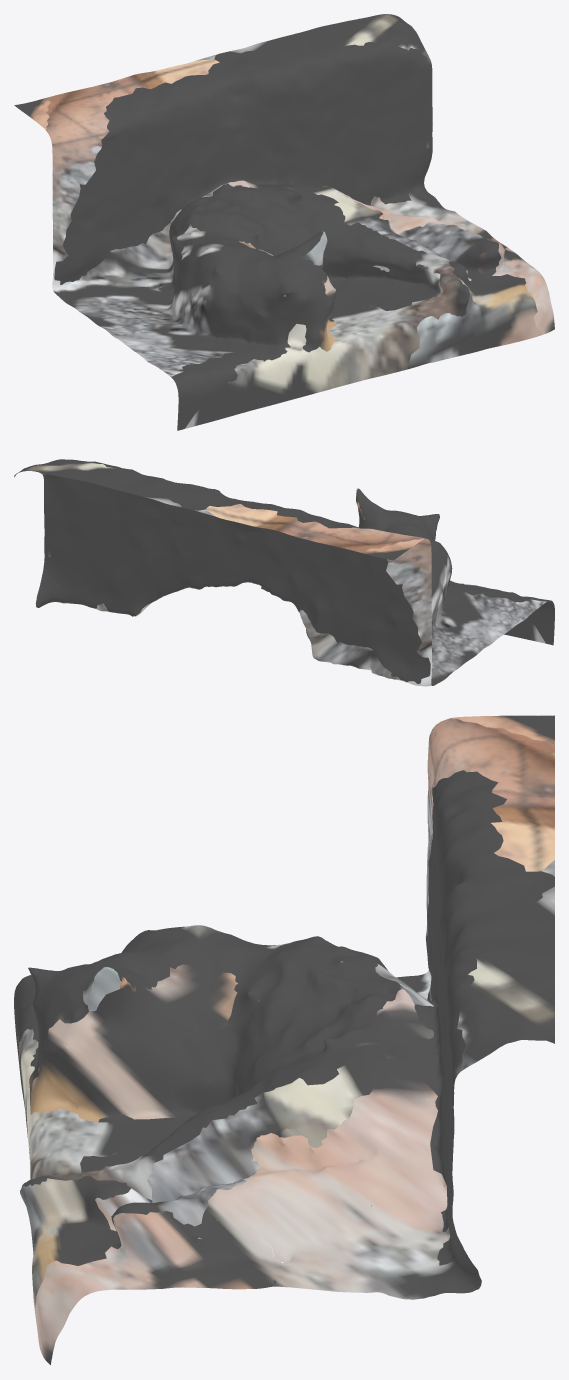
3 views of the same model, one above another, from view 1: azimuth 30°, elevation 25°; view 2: azimuth 150°, elevation 25°; view 3: azimuth 270°, elevation 25° (orthographic). The views are drawn at different scales.
Visible parts, largest first — view 1: mesh_main_0; view 2: mesh_main_0; view 3: mesh_main_0.
Part boxes in pixels (bbox=[...]): mesh_main_0: bbox=[14, 14, 554, 430]; mesh_main_0: bbox=[14, 459, 554, 686]; mesh_main_0: bbox=[14, 715, 554, 1364].
Size of the model in its own units: 0.5599 by 0.2896 by 0.4117.
